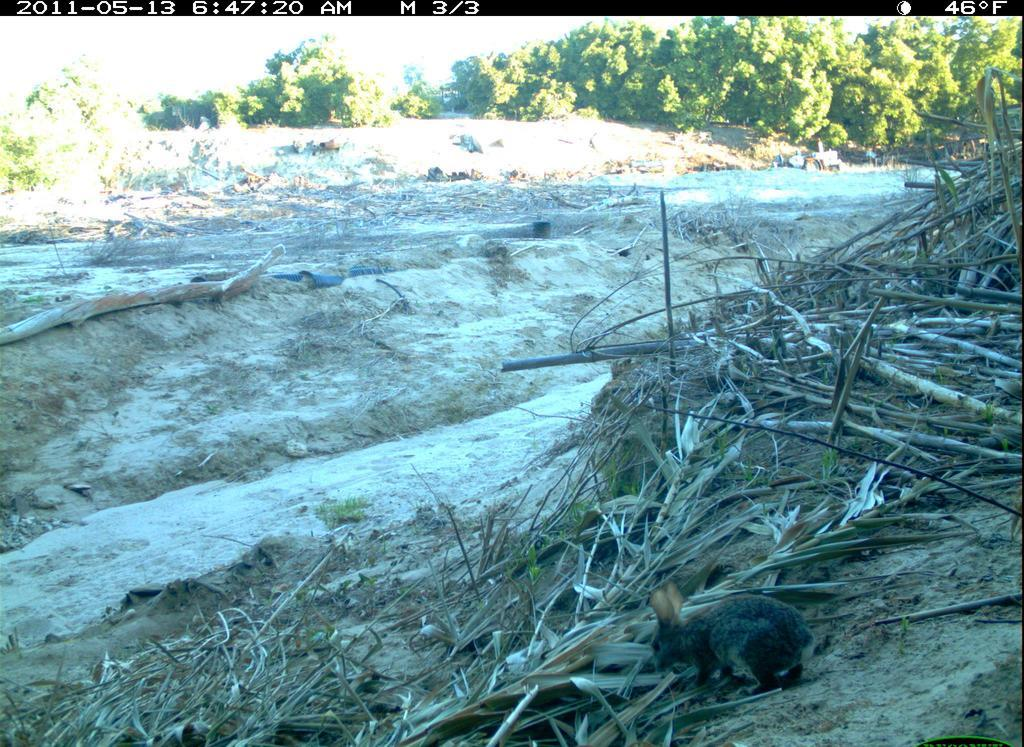rabbit: (635, 570, 826, 713)
